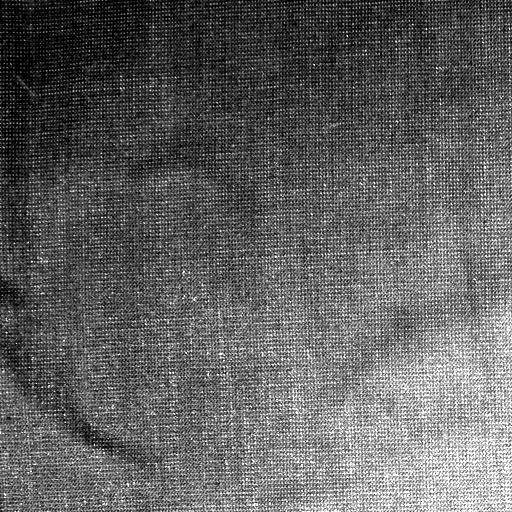fabric_perfect: (3, 4, 512, 512)
